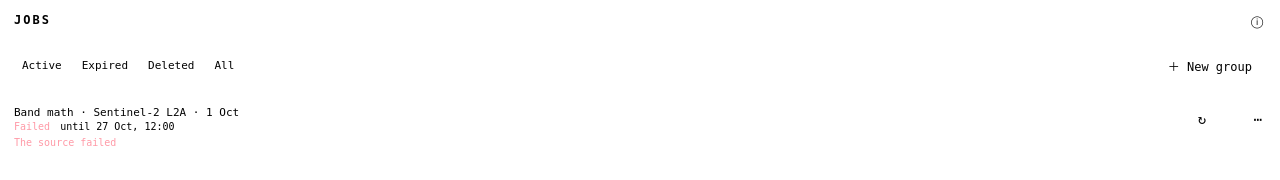
a click › takes the symbol away when the dataset has left (410)
Click the button "↻": (1202,119) [1190,107,1214,131]
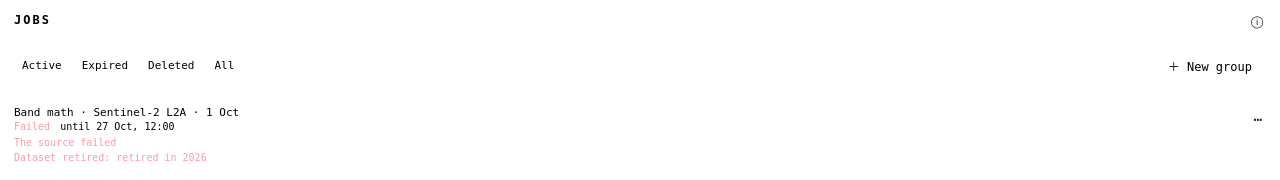
Expected: the message "Dataset retired: retired in 2026" is shown, [14,152,207,163]
